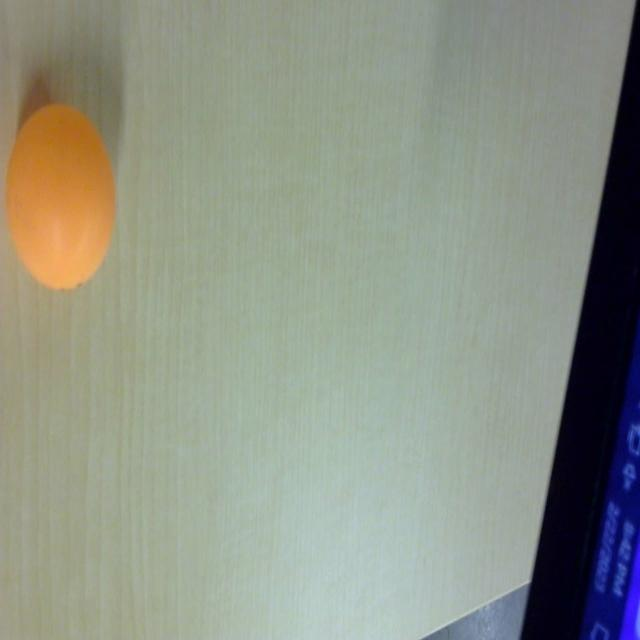ball: (6, 101, 117, 300)
